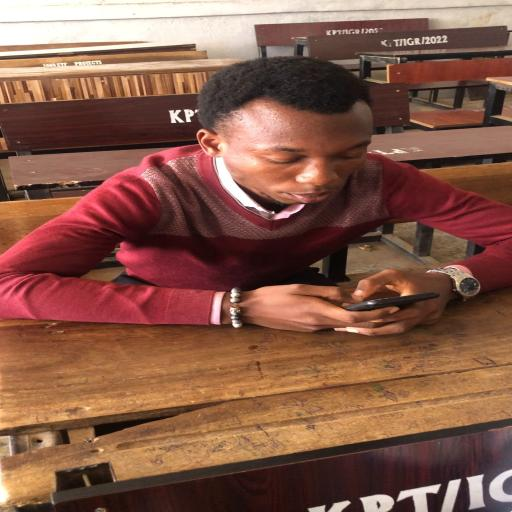Eating: (1, 55, 510, 333), (342, 292, 439, 312)
